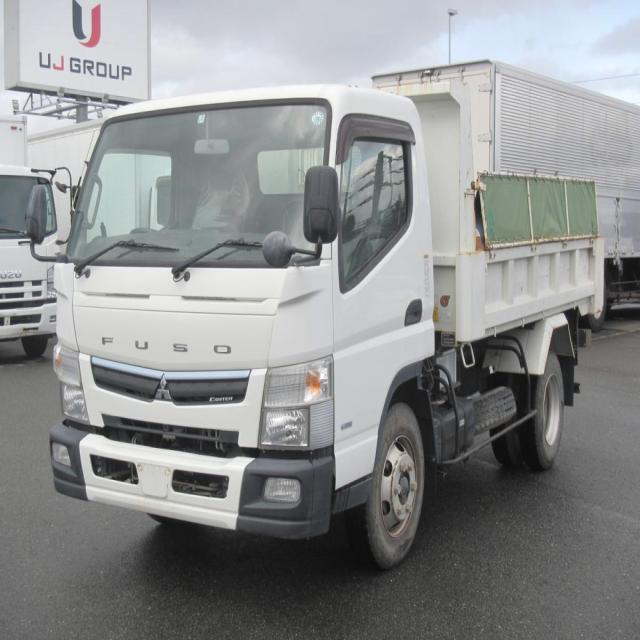truck: (28, 72, 606, 575)
